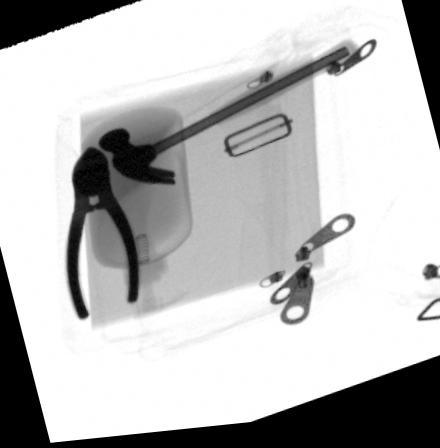Hammer: (96, 45, 361, 189)
Pliers: (64, 147, 138, 320)
